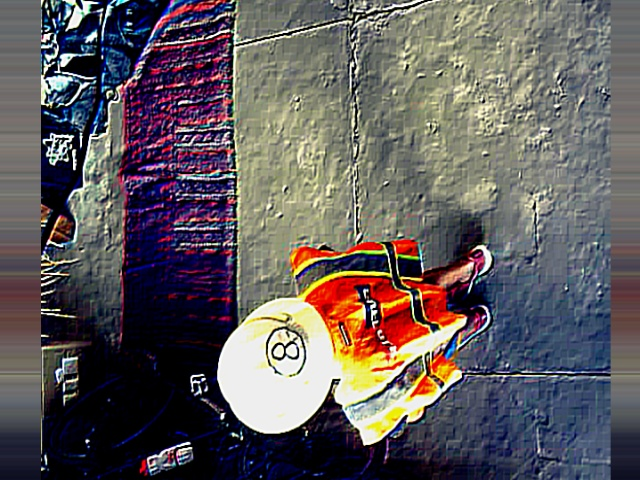eight: (263, 328, 307, 378)
